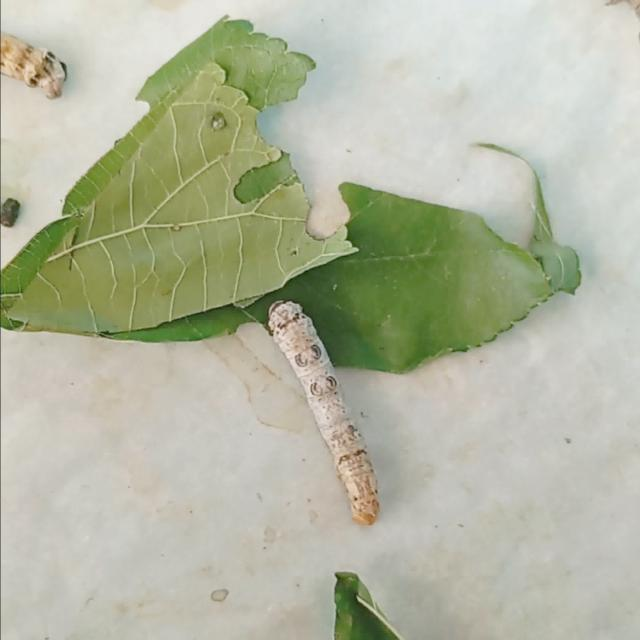Grasserie: (245, 281, 394, 541)
